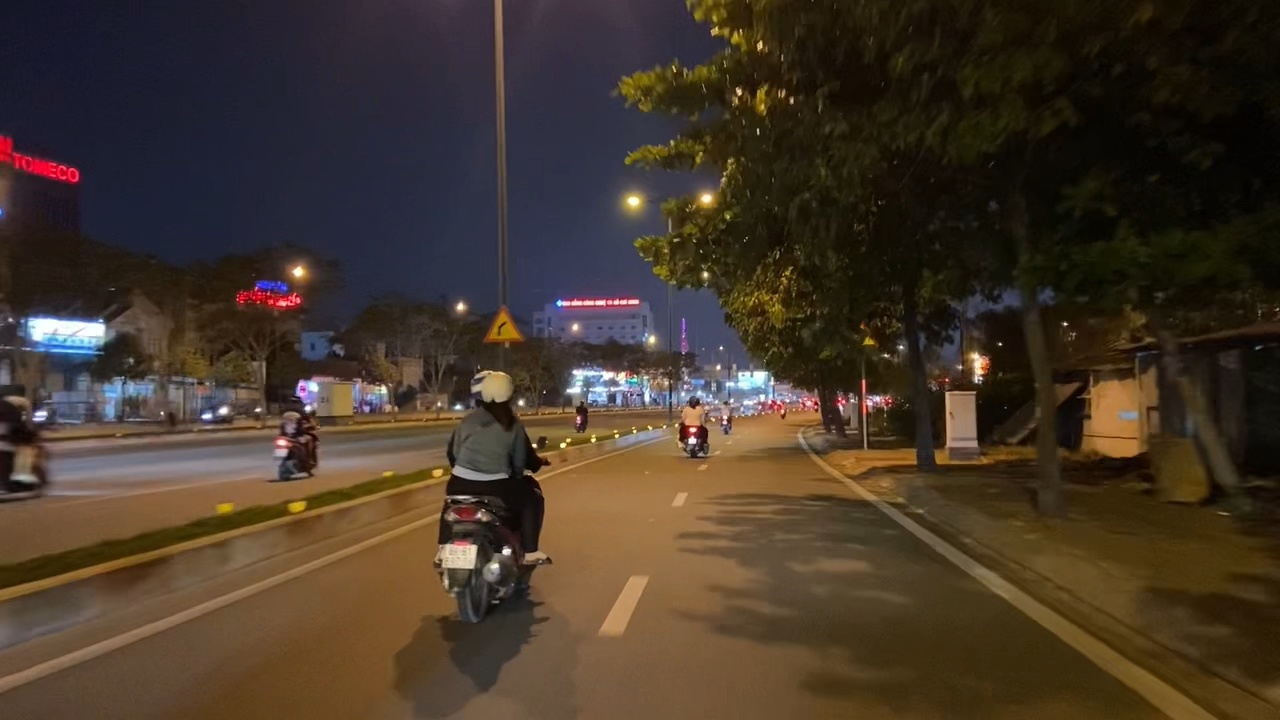duong_nghieng_phai: (480, 301, 527, 345)
